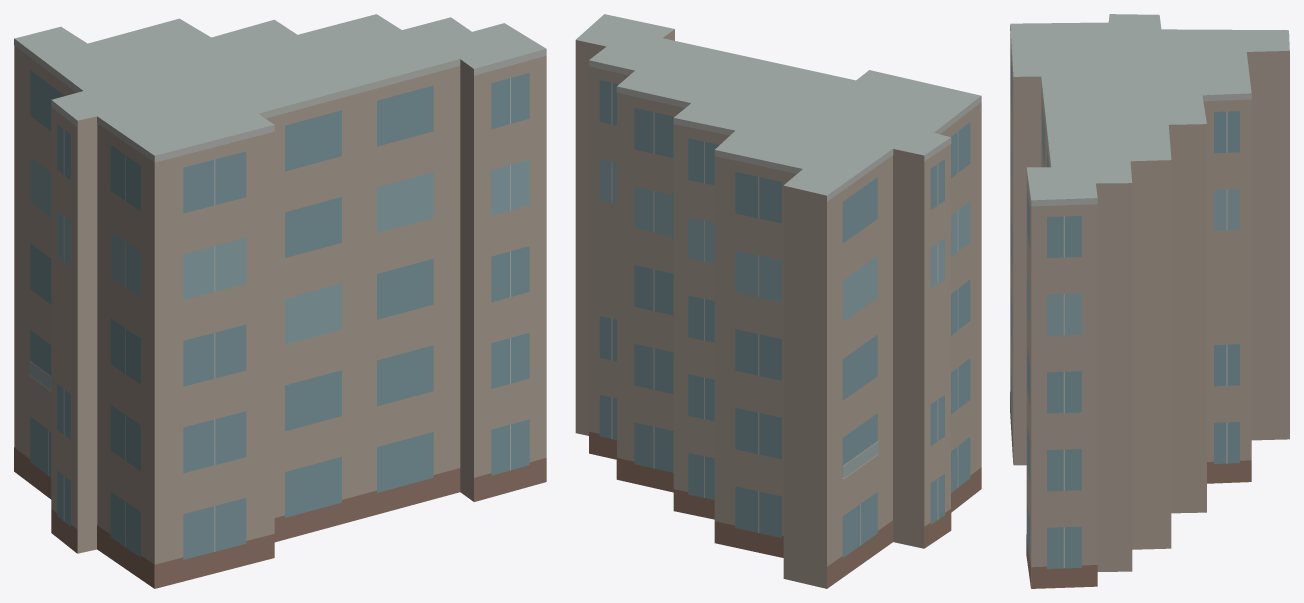
File: survey-upis-32596590.glb
3 renders of one model, left to right at view 1: azimuth 30°, elevation 25°; view 2: azimuth 150°, elevation 25°; view 3: azimuth 270°, elevation 25°, orthographic. The views are drawn at different scales.
Parts seen in each view (by area): view 1: survey-upis-32596590.tmp; view 2: survey-upis-32596590.tmp; view 3: survey-upis-32596590.tmp.
Boxes of the visible parts, left/top/right/bottom form: survey-upis-32596590.tmp: left=14, top=14, right=546, bottom=588; survey-upis-32596590.tmp: left=575, top=14, right=981, bottom=588; survey-upis-32596590.tmp: left=1010, top=14, right=1289, bottom=588.
Bounding box in the file's own units: 15.95 × 15.5 × 10.12.
